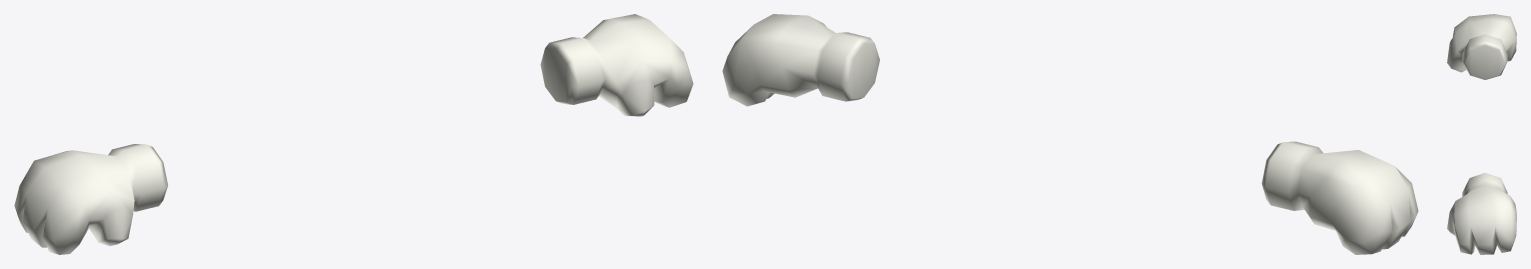
The model's file is Glove_1.fbx.
3 renders of one model, left to right at view 1: azimuth 30°, elevation 25°; view 2: azimuth 150°, elevation 25°; view 3: azimuth 270°, elevation 25°, orthographic. The views are drawn at different scales.
Visible parts, largest first — view 1: Glove_1; view 2: Glove_1; view 3: Glove_1.
Boxes of the visible parts, x1=… form: Glove_1: x1=14, y1=14, x2=693, y2=254; Glove_1: x1=722, y1=14, x2=1418, y2=254; Glove_1: x1=1447, y1=14, x2=1516, y2=254.
Bounding box in the file's own units: 132 × 15.73 × 18.87.
